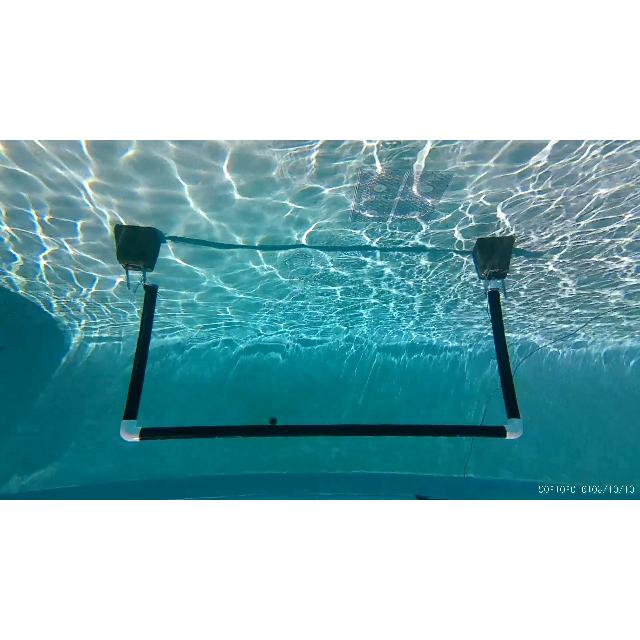prequal gate: (111, 275, 528, 443)
prequal gate leg l: (478, 274, 526, 441)
prequal gate leg r: (115, 277, 169, 441)
